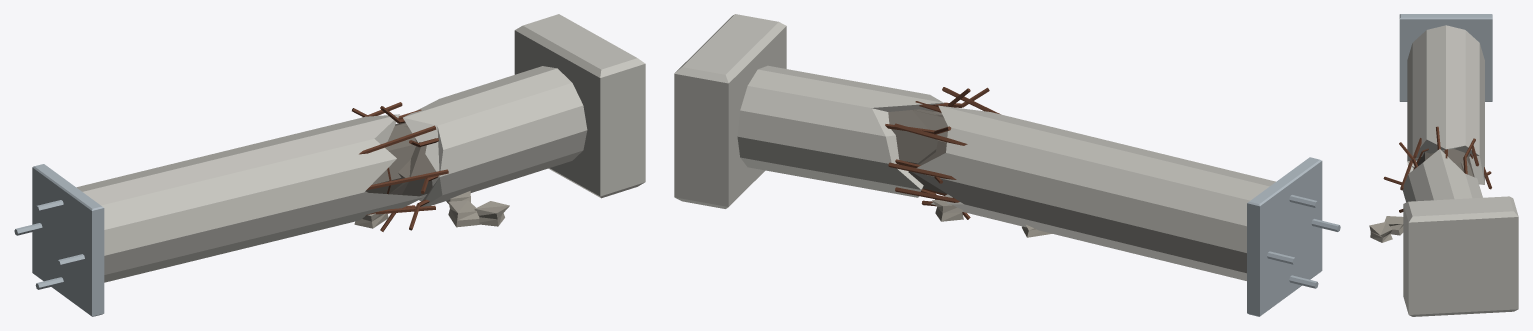
The model's file is DESTROY_09.obj.
3 views of the same model, side by side, from view 1: azimuth 30°, elevation 25°; view 2: azimuth 150°, elevation 25°; view 3: azimuth 270°, elevation 25° (orthographic). The views are drawn at different scales.
Visible parts, largest first — view 1: DESTROY_09__piece_A_shell, DESTROY_09__piece_B_shell, DESTROY_09__capital, DESTROY_09__base_plate, DESTROY_09__spall, DESTROY_09__bars_A, DESTROY_09__piece_A_core, DESTROY_09__piece_B_core, DESTROY_09__base_bolt_stubs, DESTROY_09__bars_B; view 2: DESTROY_09__piece_A_shell, DESTROY_09__piece_B_shell, DESTROY_09__capital, DESTROY_09__base_plate, DESTROY_09__piece_B_core, DESTROY_09__bars_A, DESTROY_09__piece_A_core, DESTROY_09__base_bolt_stubs, DESTROY_09__bars_B, DESTROY_09__spall; view 3: DESTROY_09__capital, DESTROY_09__piece_A_shell, DESTROY_09__base_plate, DESTROY_09__piece_B_shell, DESTROY_09__spall, DESTROY_09__bars_B, DESTROY_09__piece_A_core, DESTROY_09__bars_A.
Part boxes in pixels (<box>): DESTROY_09__piece_A_shell: <box>76,114,424,282</box>; DESTROY_09__piece_B_shell: <box>403,66,587,206</box>; DESTROY_09__capital: <box>514,14,645,198</box>; DESTROY_09__base_plate: <box>32,164,104,316</box>; DESTROY_09__spall: <box>354,191,509,228</box>; DESTROY_09__bars_A: <box>359,102,448,215</box>; DESTROY_09__piece_A_core: <box>365,122,415,193</box>; DESTROY_09__piece_B_core: <box>389,126,435,196</box>; DESTROY_09__base_bolt_stubs: <box>14,200,84,289</box>; DESTROY_09__bars_B: <box>352,106,438,231</box>; DESTROY_09__piece_A_shell: <box>912,105,1275,280</box>; DESTROY_09__piece_B_shell: <box>737,65,943,197</box>; DESTROY_09__capital: <box>674,14,786,208</box>; DESTROY_09__base_plate: <box>1247,157,1322,316</box>; DESTROY_09__piece_B_core: <box>888,109,942,163</box>; DESTROY_09__bars_A: <box>888,87,1000,206</box>; DESTROY_09__piece_A_core: <box>908,110,947,194</box>; DESTROY_09__base_bolt_stubs: <box>1267,195,1340,288</box>; DESTROY_09__bars_B: <box>885,87,989,219</box>; DESTROY_09__spall: <box>932,199,1052,237</box>; DESTROY_09__capital: <box>1403,196,1518,316</box>; DESTROY_09__piece_A_shell: <box>1407,25,1484,184</box>; DESTROY_09__base_plate: <box>1399,14,1492,101</box>; DESTROY_09__piece_B_shell: <box>1402,149,1482,202</box>; DESTROY_09__spall: <box>1369,216,1403,242</box>; DESTROY_09__bars_B: <box>1383,126,1491,212</box>; DESTROY_09__piece_A_core: <box>1417,148,1474,177</box>; DESTROY_09__bars_A: <box>1400,138,1491,190</box>.
Bounding box in the file's own units: 4.75 × 1 × 1.35.
